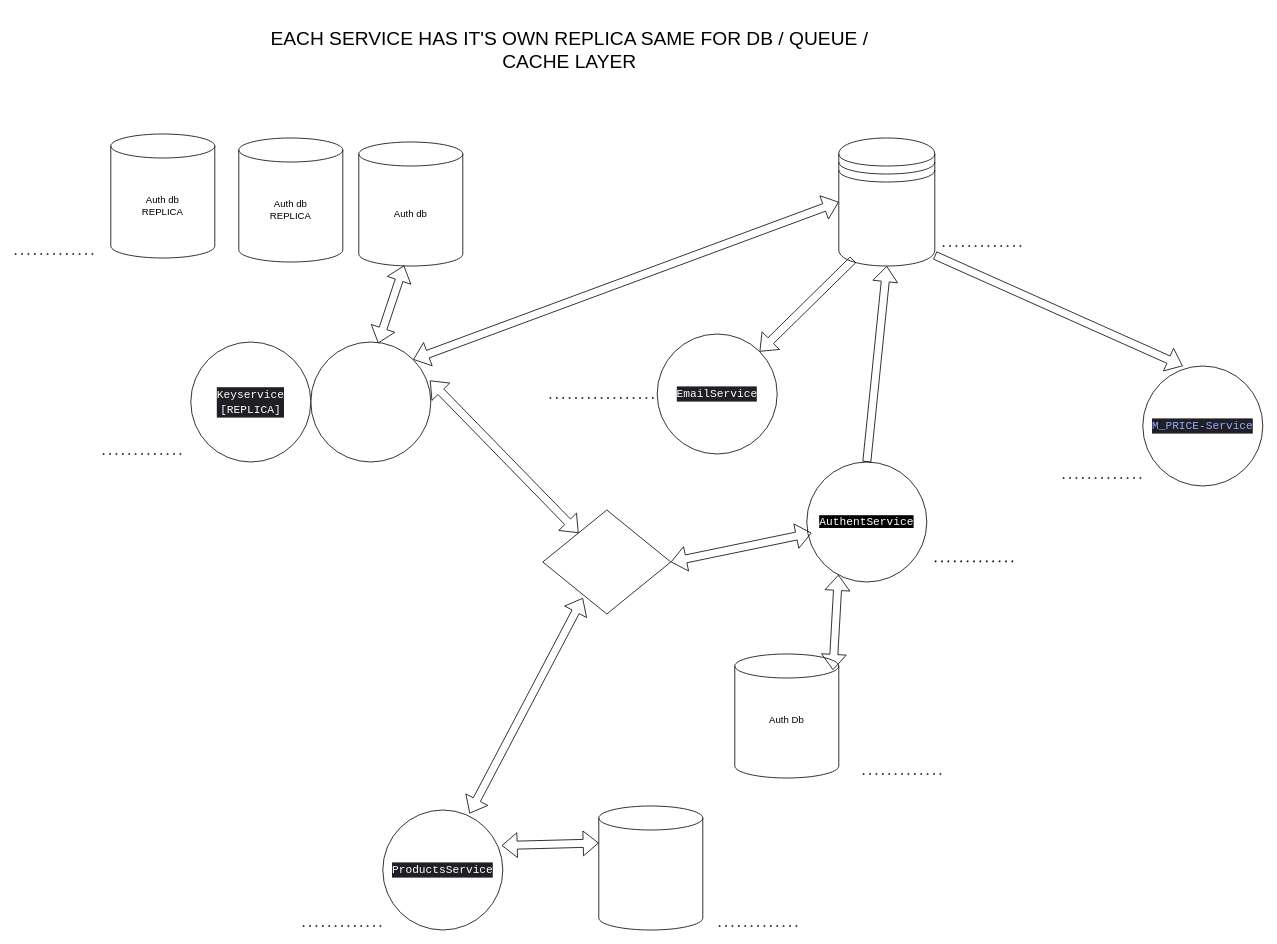
The diagram is 1277 pixels wide and 944 high, and some of its shapes have lost their labels. The box of each missing label's shape, as (x1, y1, x2, y2) in pixels:
CACHE LAYER (REDIS): (542, 509, 671, 614)
Keyservice: (310, 341, 431, 462)
Products db: (598, 805, 703, 930)
RABBITMQ: (838, 137, 935, 266)
